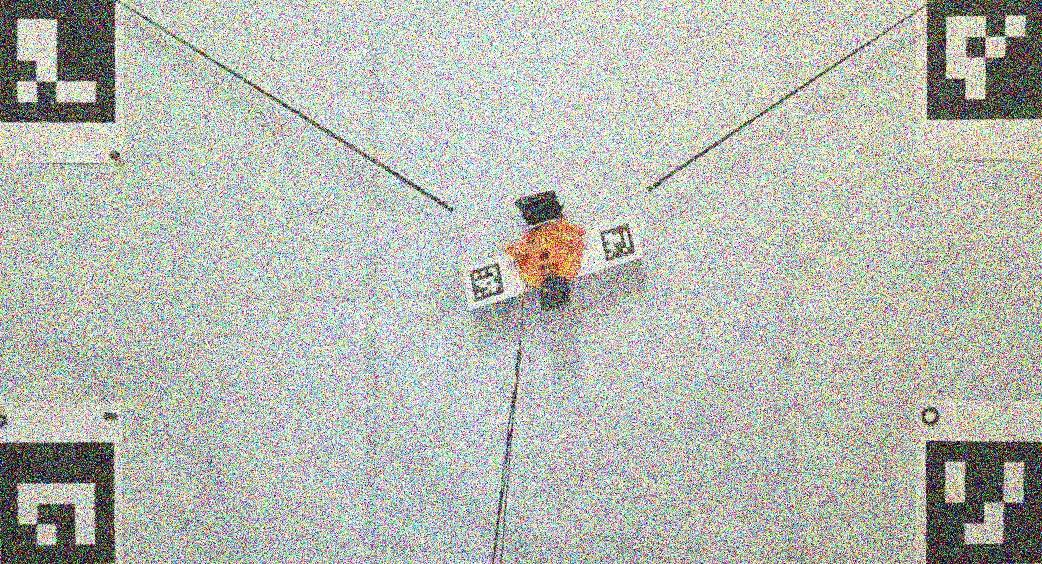robot: (507, 191, 587, 313)
